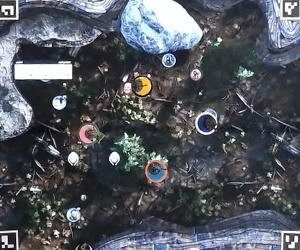blue: (195, 110, 218, 133)
light_blue_orange: (144, 161, 168, 184)
pink_green: (78, 123, 101, 146)
yellow_night_blue: (134, 76, 157, 99)
